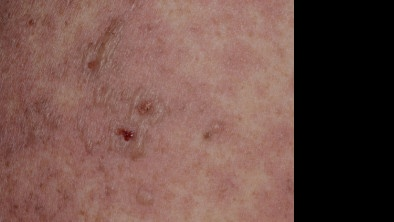SJS-TEN: (0, 0, 293, 221)
